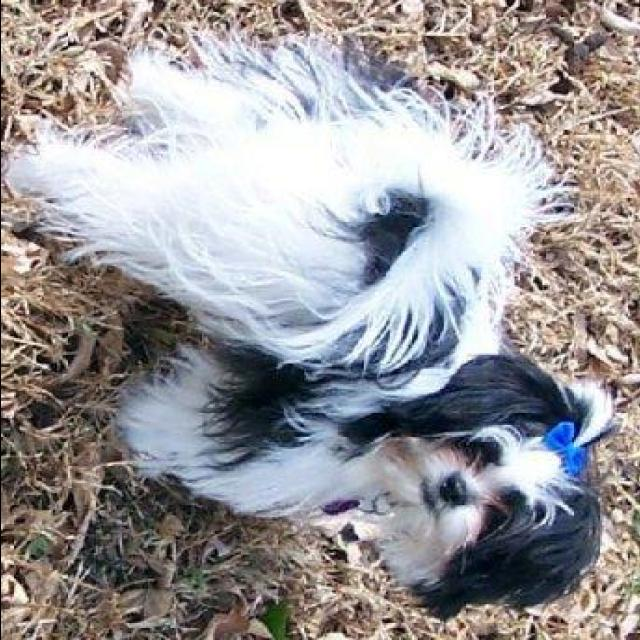shih_tzu: (13, 22, 614, 621)
